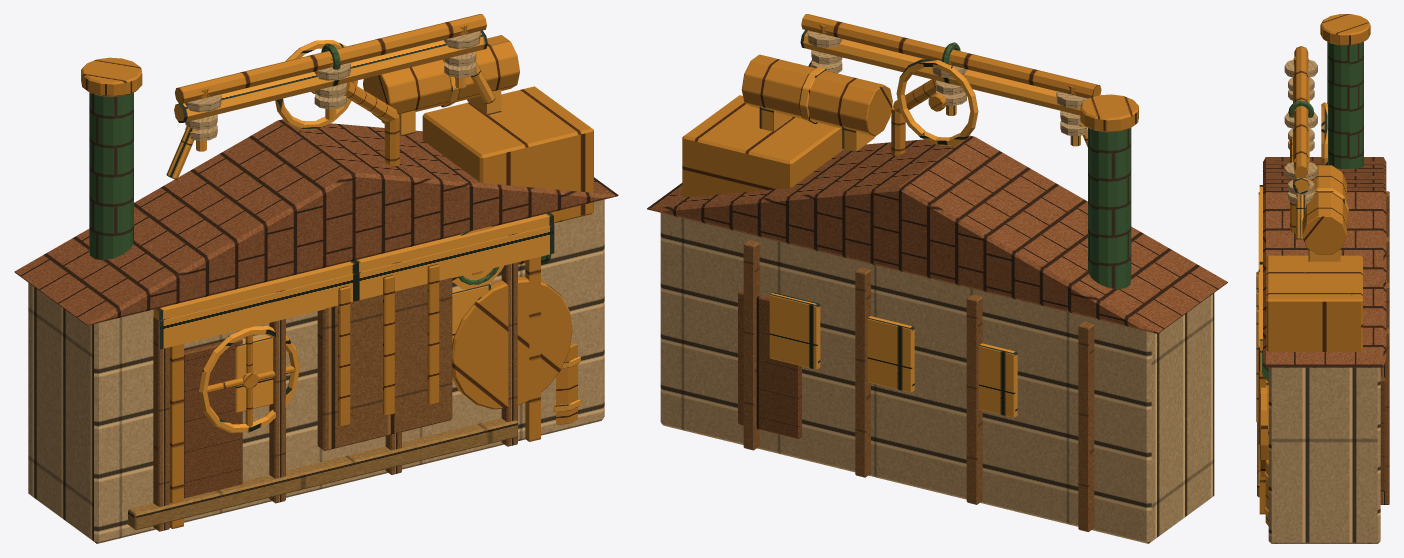
File: stamp-mill.e4.glb
The picture shows the model from 3 angles, left to right: view 1: azimuth 30°, elevation 25°; view 2: azimuth 150°, elevation 25°; view 3: azimuth 270°, elevation 25°; orthographic projection. The views are drawn at different scales.
Visible parts, largest first — view 1: StampMillE4; view 2: StampMillE4; view 3: StampMillE4.
Boxes of the visible parts, bbox=[...] form: StampMillE4: bbox=[14, 14, 618, 543]; StampMillE4: bbox=[647, 14, 1227, 543]; StampMillE4: bbox=[1256, 14, 1389, 543].
Bounding box in the file's own units: 5.95 × 4.56 × 1.6.
Materials: 1 (1 with a texture image).
